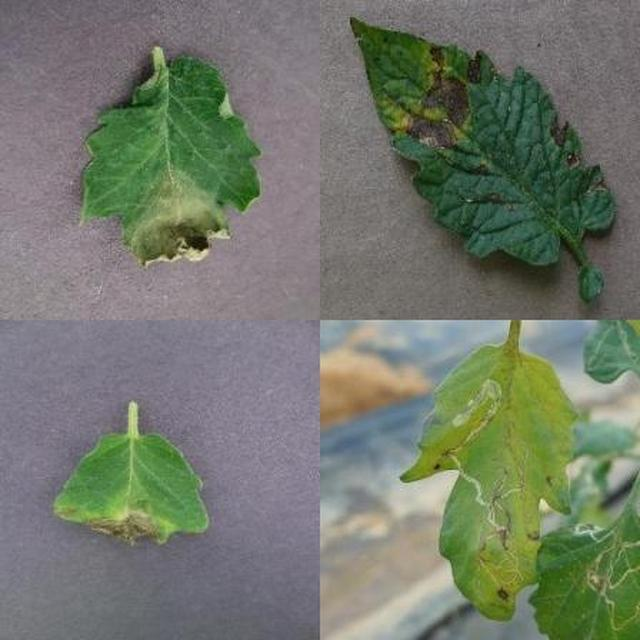Late Blight Leaf: (192, 170, 640, 640)
